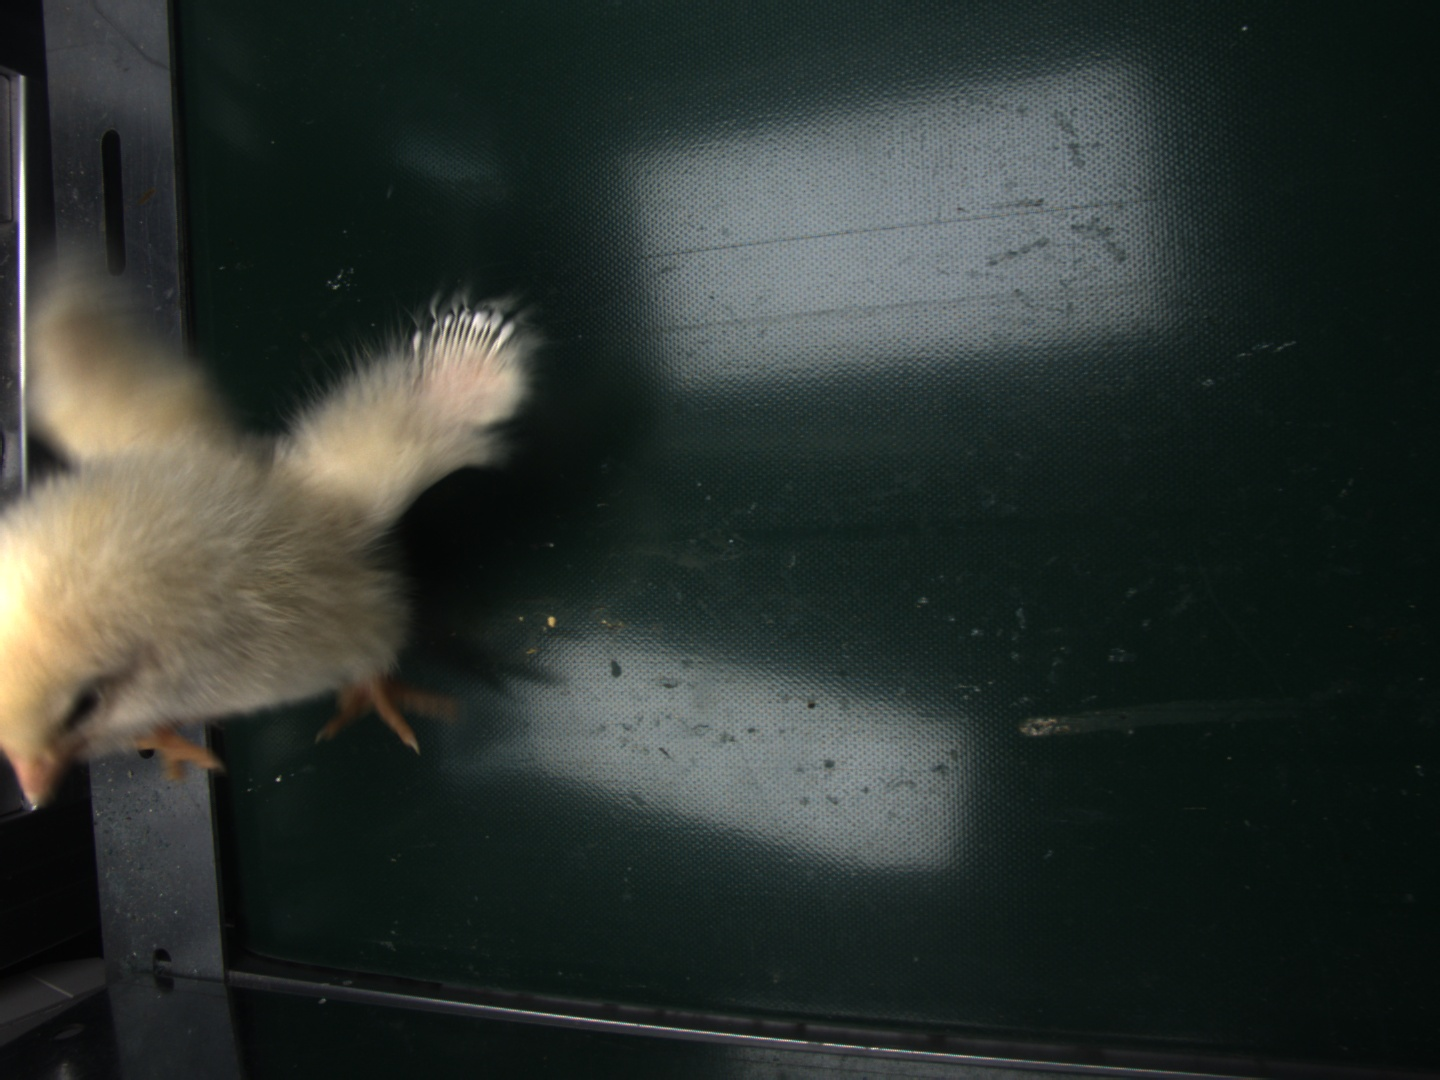male: (421, 299, 513, 370)
